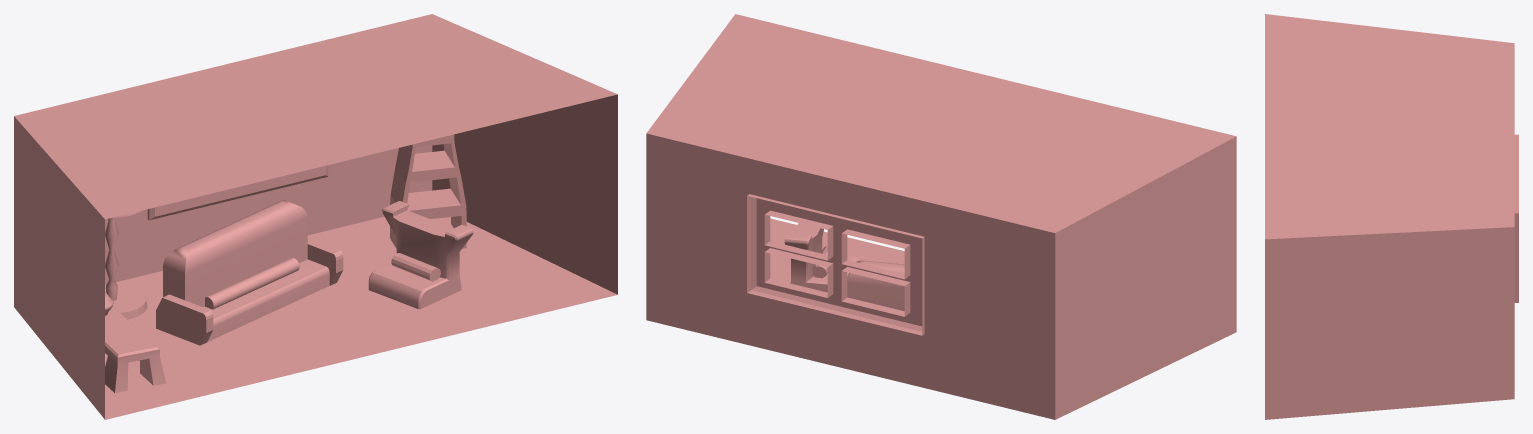
The model's file is sm_Room2_low.fbx.
The picture shows the model from 3 angles, left to right: view 1: azimuth 30°, elevation 25°; view 2: azimuth 150°, elevation 25°; view 3: azimuth 270°, elevation 25°; orthographic projection. The views are drawn at different scales.
Parts seen in each view (by area): view 1: sm_Walls_low, sm_Couch_low, sm_Rug_low, sm_Chair_low, sm_Shelf_low, sm_Side_Table_low, sm_Window_low, sm_Lamp_low, sm_Pillow_low; view 2: sm_Walls_low, sm_Window_low, sm_Chair_low, sm_Couch_low; view 3: sm_Walls_low, sm_Window_low.
Part boxes in pixels (<box>): sm_Walls_low: <box>14,14,617,419</box>; sm_Couch_low: <box>156,200,343,345</box>; sm_Rug_low: <box>224,288,386,359</box>; sm_Chair_low: <box>368,201,473,309</box>; sm_Shelf_low: <box>390,134,466,248</box>; sm_Side_Table_low: <box>105,306,165,393</box>; sm_Window_low: <box>147,165,328,220</box>; sm_Lamp_low: <box>105,210,147,319</box>; sm_Pillow_low: <box>205,257,299,309</box>; sm_Walls_low: <box>646,14,1236,419</box>; sm_Window_low: <box>747,194,924,335</box>; sm_Chair_low: <box>784,223,858,292</box>; sm_Couch_low: <box>847,260,904,311</box>; sm_Walls_low: <box>1265,14,1518,419</box>; sm_Window_low: <box>1514,134,1518,302</box>.
Size of the model in its own units: 749 by 282 by 356.
